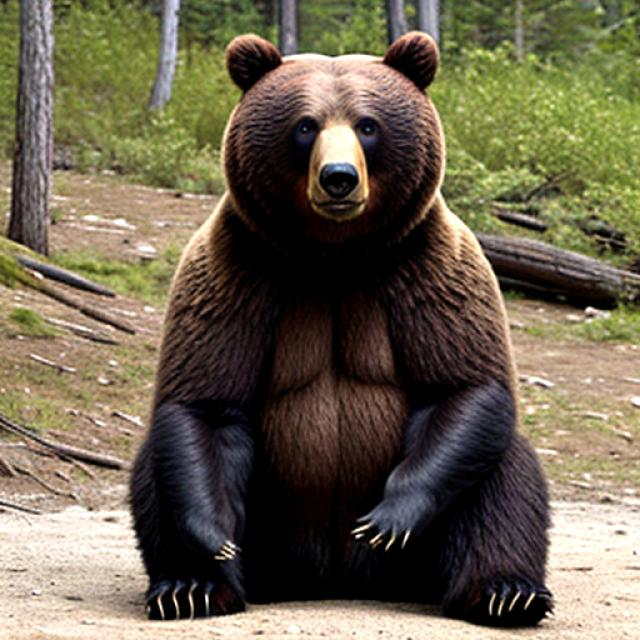bear: (166, 3, 550, 640)
